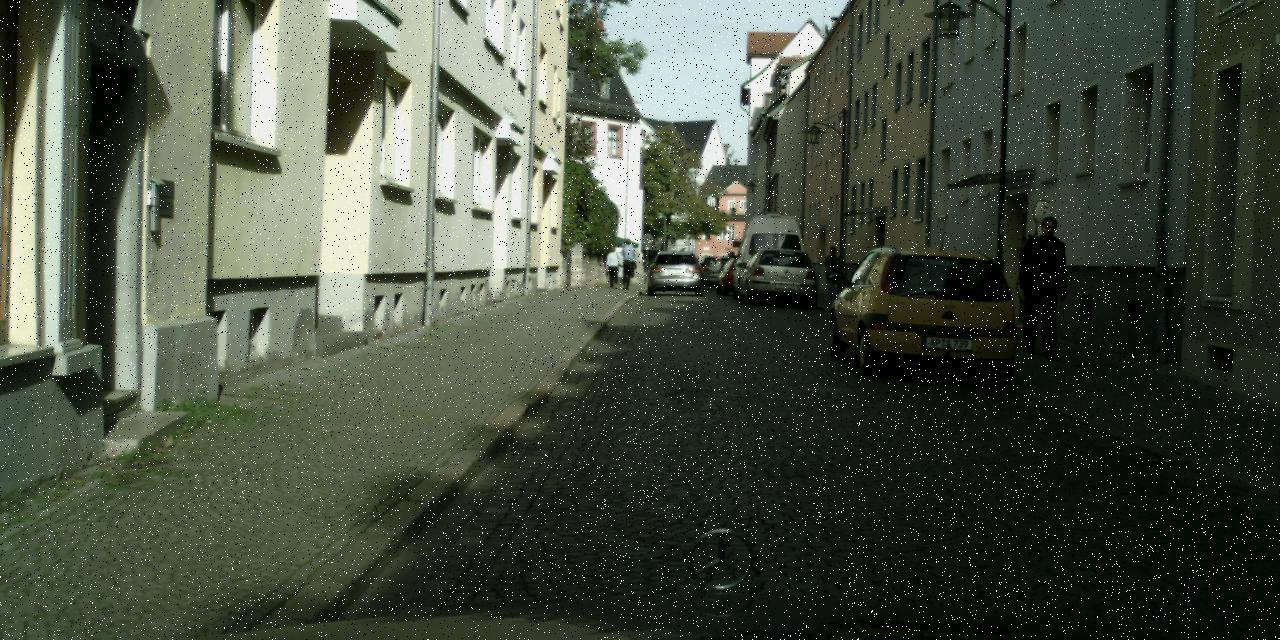ped: (1016, 216, 1072, 356), (821, 246, 842, 298), (616, 238, 636, 288), (604, 245, 621, 288)
